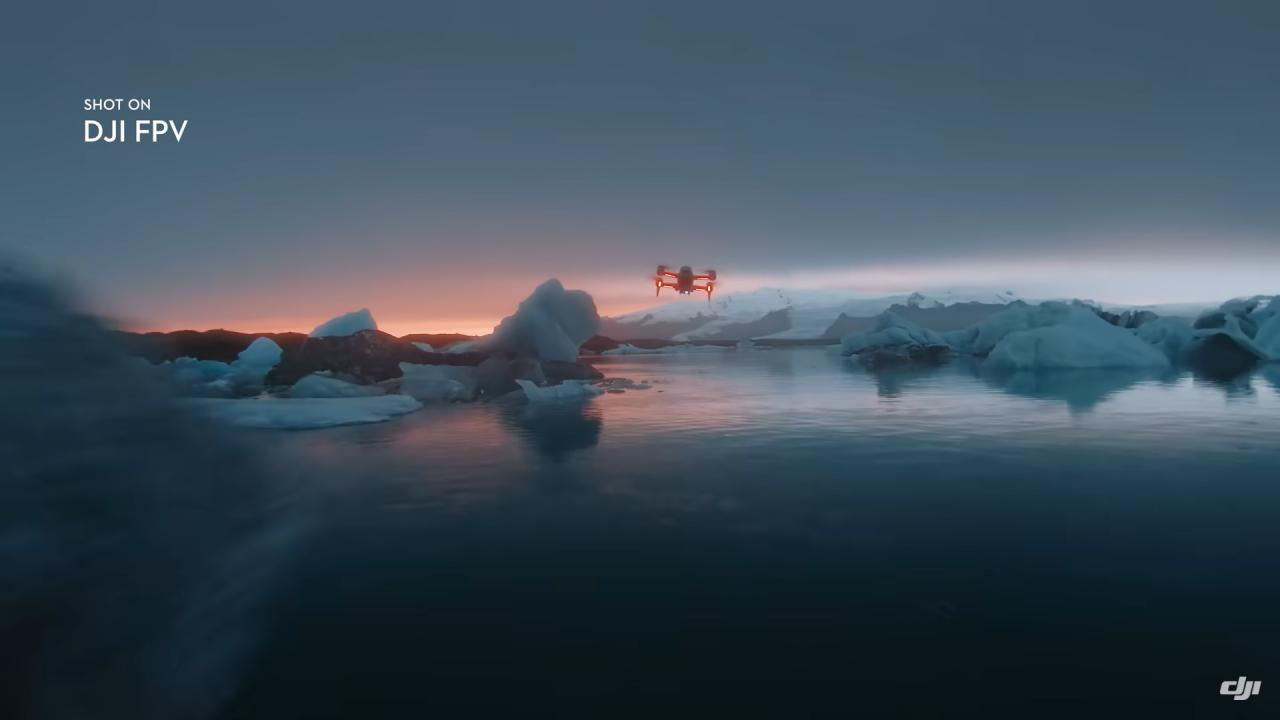Drone: (646, 256, 724, 308)
